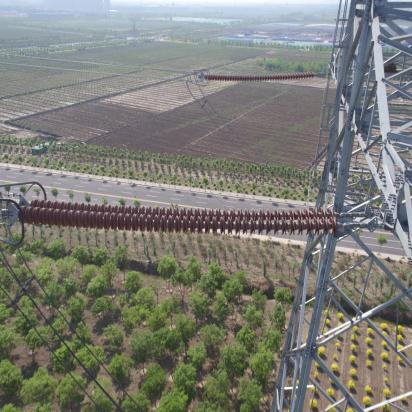insulator: (16, 192, 356, 240), (205, 71, 323, 83)
